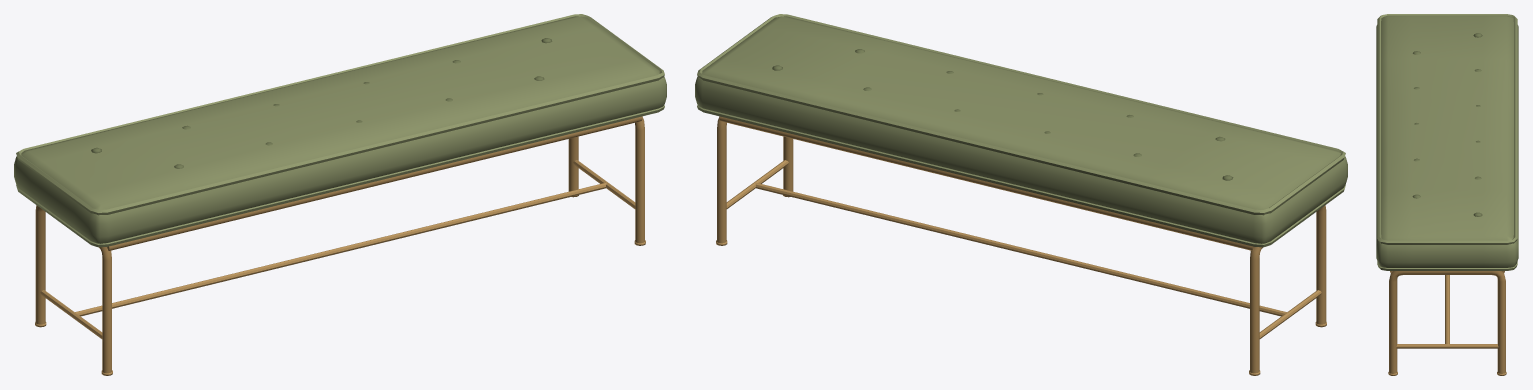
File: benchBedEnd.glb
3 views of the same model, side by side, from view 1: azimuth 30°, elevation 25°; view 2: azimuth 150°, elevation 25°; view 3: azimuth 270°, elevation 25° (orthographic). The views are drawn at different scales.
Visible parts, largest first — view 1: benchBedEnd; view 2: benchBedEnd; view 3: benchBedEnd.
Part boxes in pixels (x1,y1,x2,y2): benchBedEnd: [14, 14, 666, 375]; benchBedEnd: [695, 14, 1347, 375]; benchBedEnd: [1376, 14, 1518, 375].
Size of the model in its own units: 1.6 by 0.4694 by 0.42.
